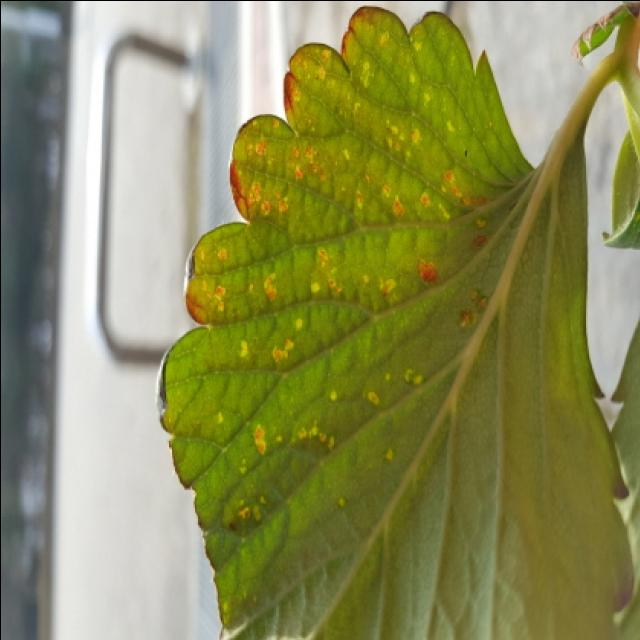Angular Leafspot: (162, 4, 503, 620)
